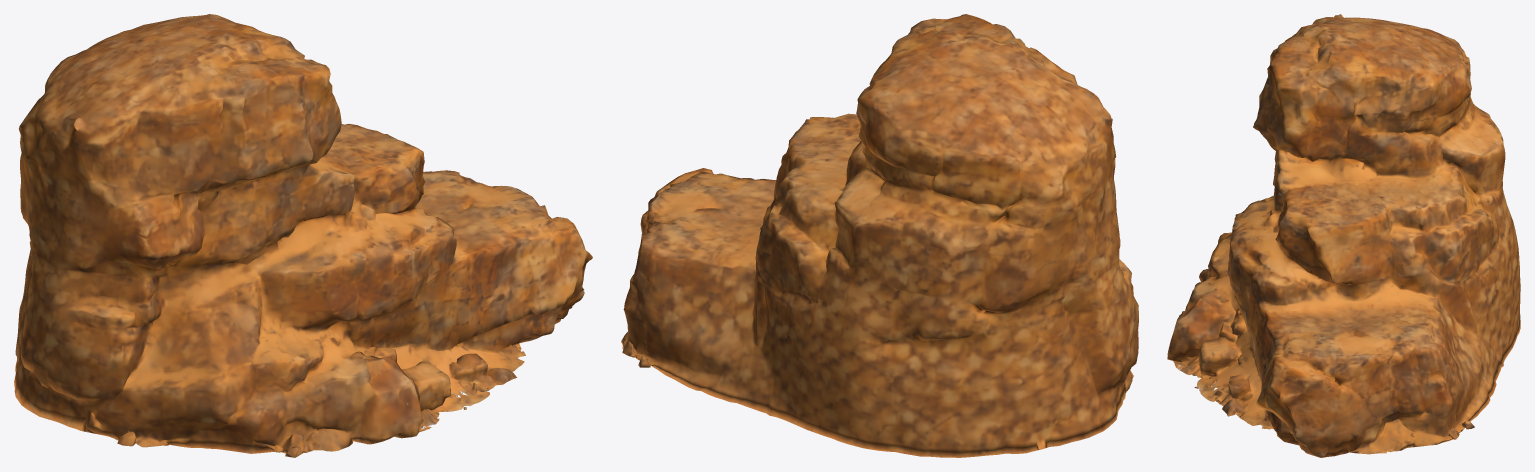
Rendered from desert_3.glb.
The picture shows the model from 3 angles, left to right: view 1: azimuth 30°, elevation 25°; view 2: azimuth 150°, elevation 25°; view 3: azimuth 270°, elevation 25°; orthographic projection. The views are drawn at different scales.
Parts seen in each view (by area): view 1: geometry_0; view 2: geometry_0; view 3: geometry_0.
Part boxes in pixels (left/top/right/bottom): geometry_0: left=14, top=14, right=592, bottom=457; geometry_0: left=621, top=14, right=1138, bottom=457; geometry_0: left=1167, top=14, right=1520, bottom=457.
Bounding box in the file's own units: 0.9614 × 0.6089 × 0.6797.
1 material, 1 textured.
